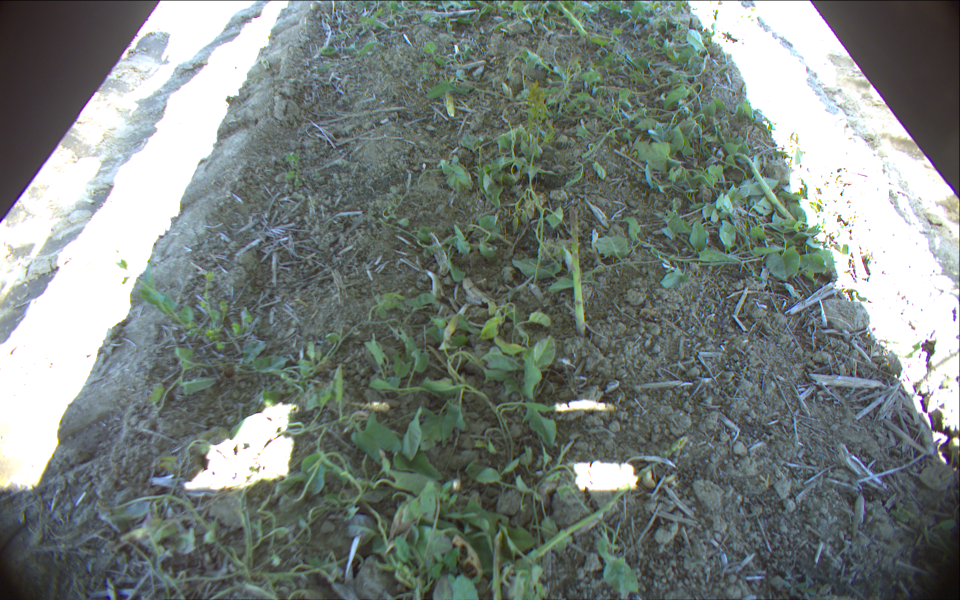aspa: (560, 205, 587, 336)
